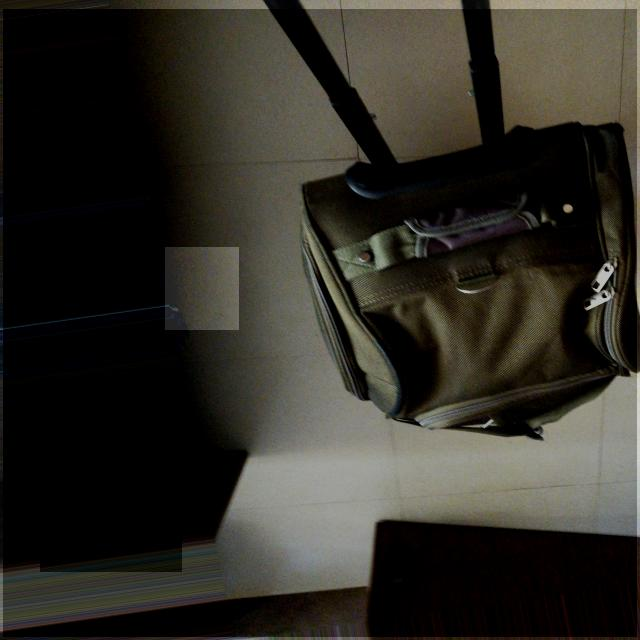Bag: (252, 0, 639, 452)
Handle: (253, 0, 510, 192)
